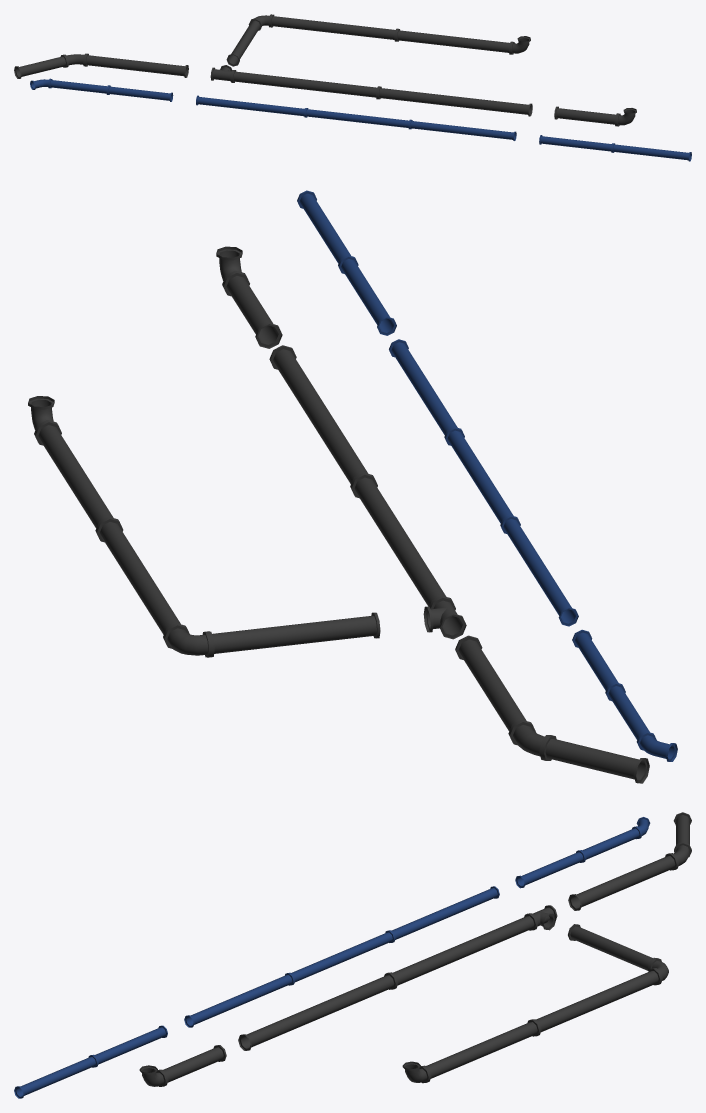
The model's file is SM_H_Building_Tide_Canteen_02B_ATLAS.fbx.
The picture shows the model from 3 angles, top to bottom: view 1: azimuth 30°, elevation 25°; view 2: azimuth 150°, elevation 25°; view 3: azimuth 270°, elevation 25°; orthographic projection. The views are drawn at different scales.
Parts seen in each view (by area): view 1: SM_H_Building_Tide_Canteen_02B_ATLAS; view 2: SM_H_Building_Tide_Canteen_02B_ATLAS; view 3: SM_H_Building_Tide_Canteen_02B_ATLAS.
Part boxes in pixels (left/top/right/bottom): SM_H_Building_Tide_Canteen_02B_ATLAS: left=14, top=14, right=691, bottom=161; SM_H_Building_Tide_Canteen_02B_ATLAS: left=28, top=190, right=677, bottom=783; SM_H_Building_Tide_Canteen_02B_ATLAS: left=14, top=812, right=691, bottom=1098.
Size of the model in its own units: 1818 by 1915 by 70.72.
